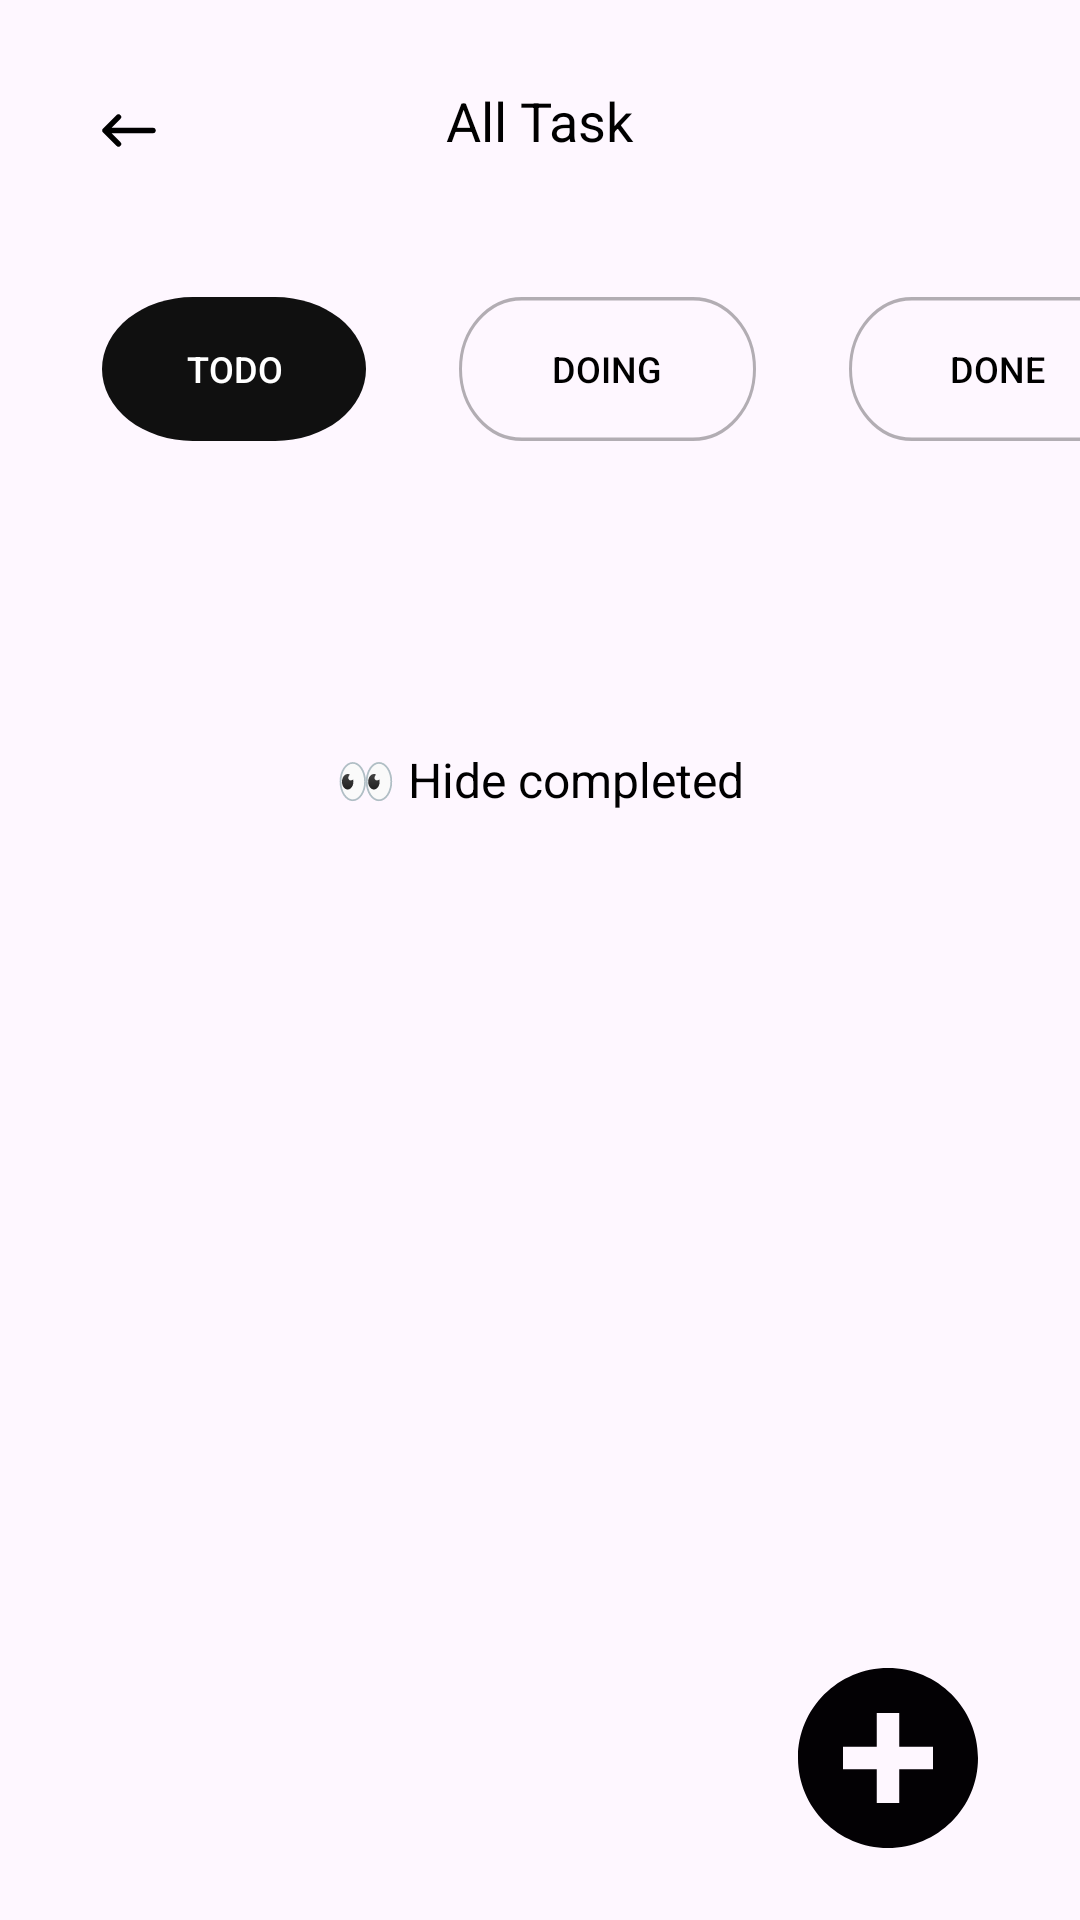

Icons on this 1080 x 1920 Android screen, each with the point to tap as (x,y):
arrow: (129,130)
